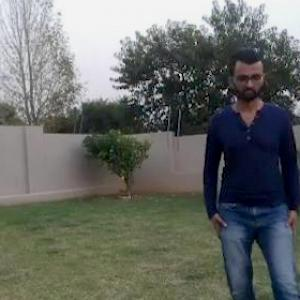follow: (196, 9, 299, 299)
